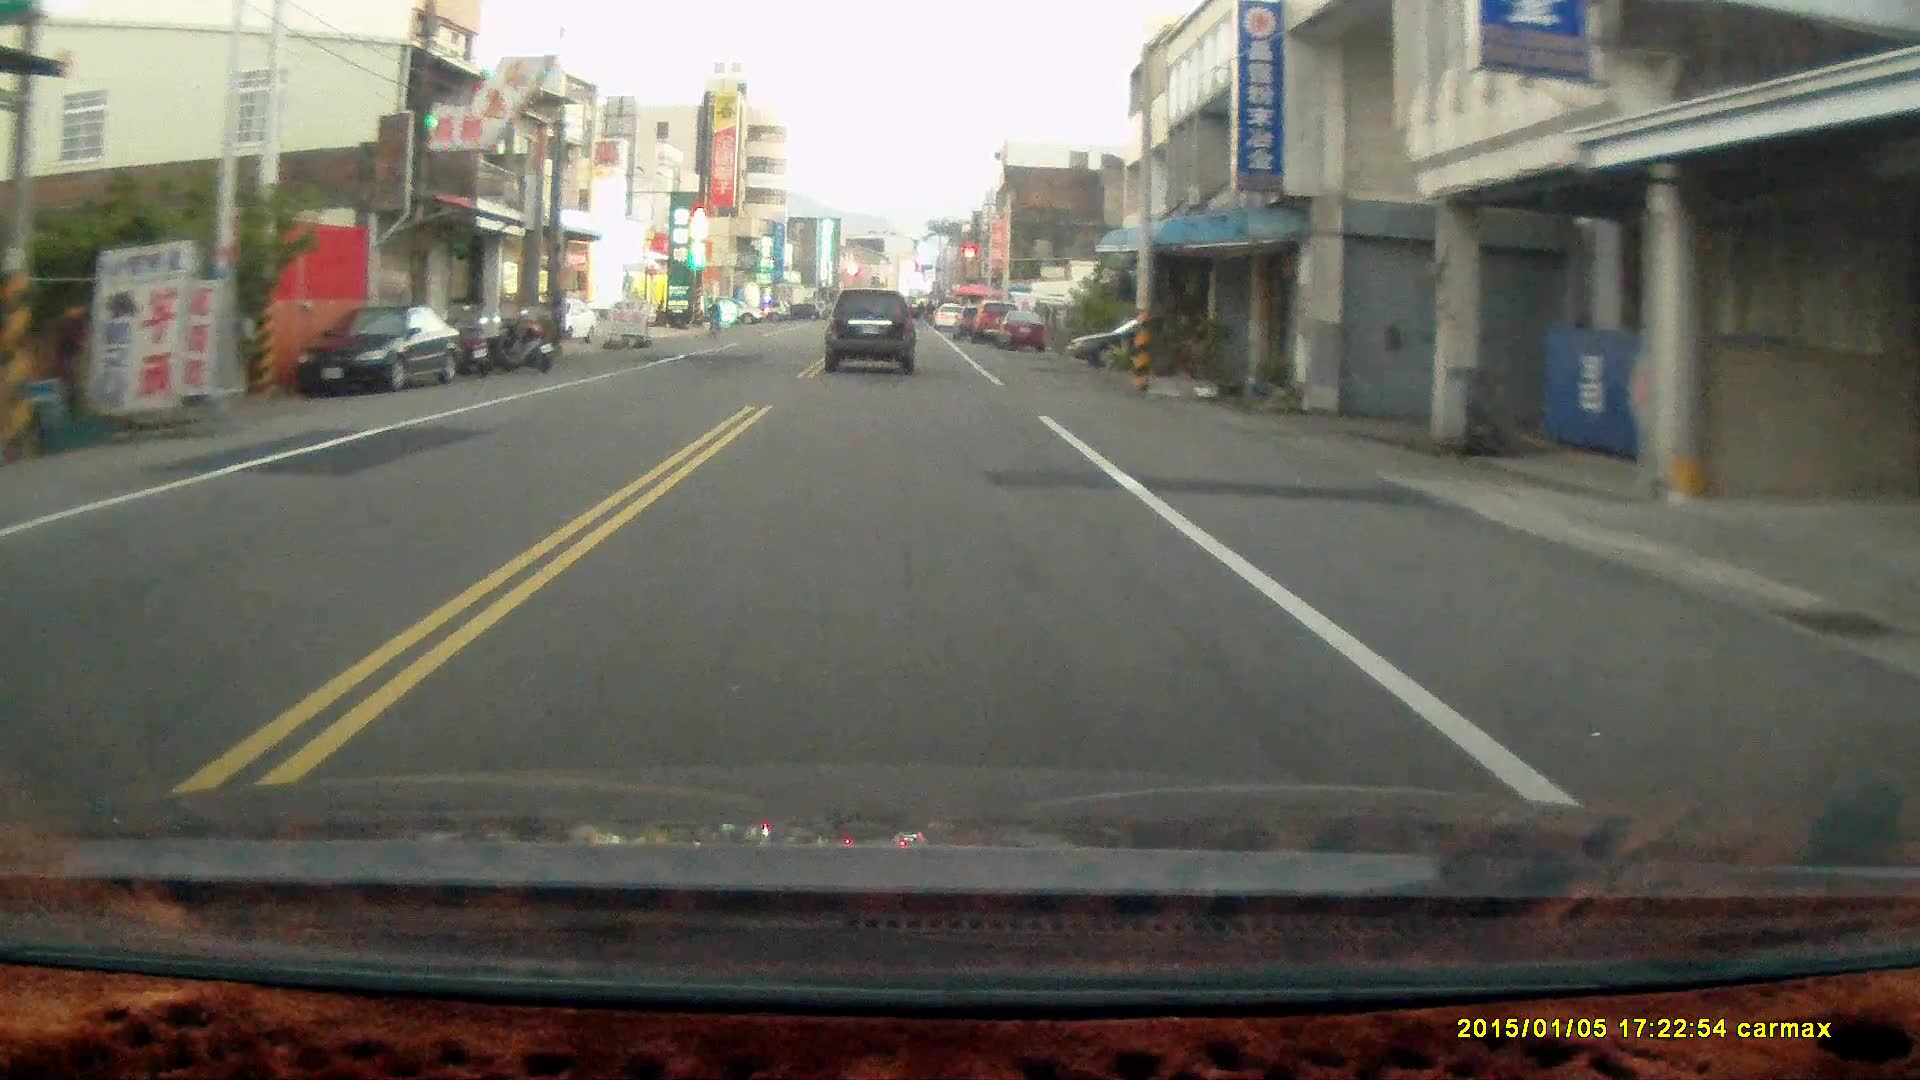pedestrian: (46, 298, 86, 423)
rider: (701, 294, 723, 338)
vehicle: (291, 306, 464, 395), (824, 286, 917, 377)
